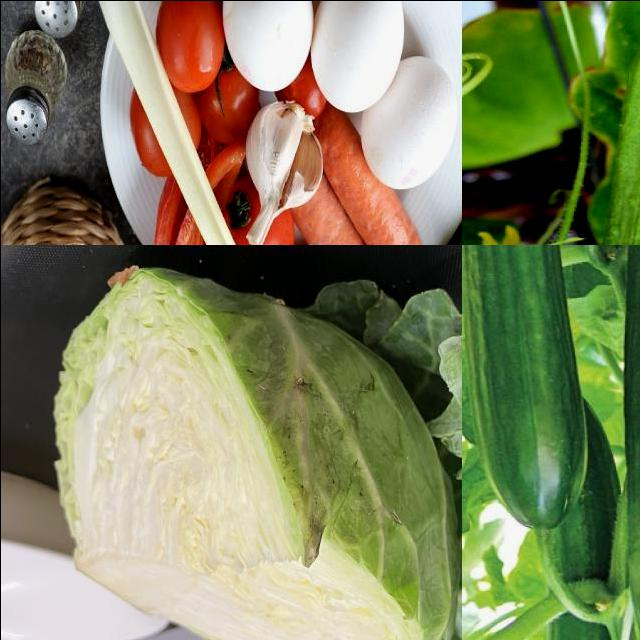cabbage: (51, 259, 462, 640)
carrot: (376, 212, 431, 245)
cucumber: (462, 245, 592, 542), (542, 389, 631, 640), (586, 18, 640, 245)
egg: (369, 59, 454, 189), (333, 1, 403, 115), (230, 1, 305, 85)
garlic: (247, 105, 311, 242)
tomato: (167, 1, 218, 94)
